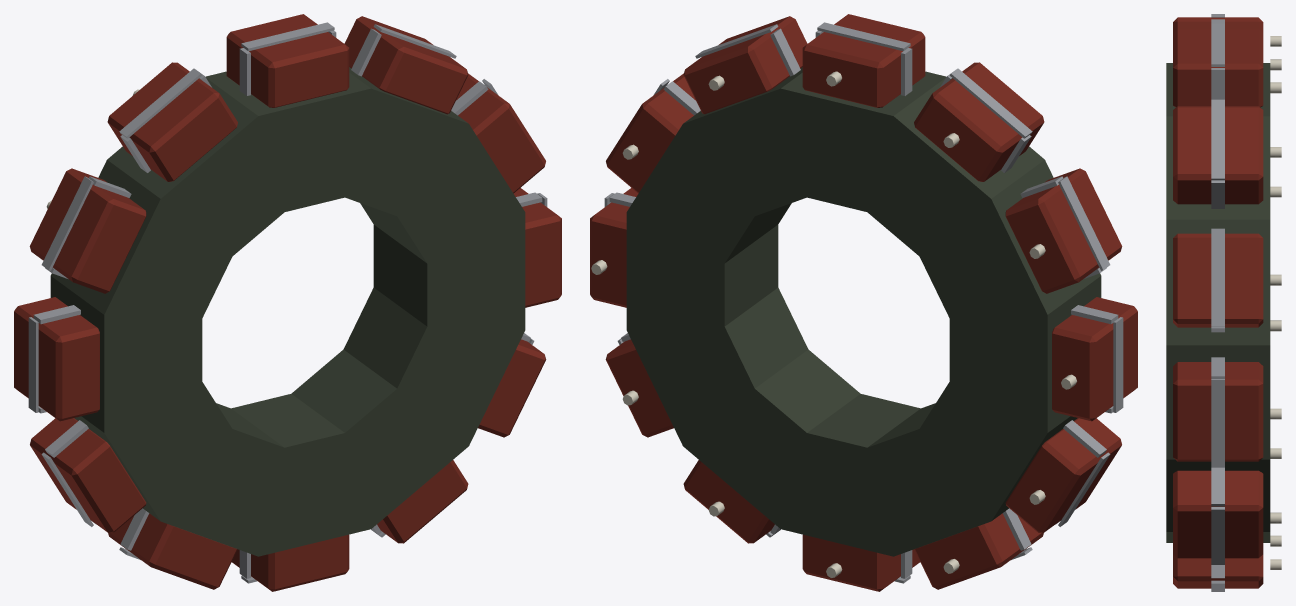
Rendered from tz11_coil_ring.obj.
3 renders of one model, left to right at view 1: azimuth 30°, elevation 25°; view 2: azimuth 150°, elevation 25°; view 3: azimuth 270°, elevation 25°, orthographic. The views are drawn at different scales.
Parts seen in each view (by area): view 1: tz11_coil_ring; view 2: tz11_coil_ring; view 3: tz11_coil_ring.
Boxes of the visible parts, x1,y1,x2,y2 form: tz11_coil_ring: [14, 14, 561, 591]; tz11_coil_ring: [590, 14, 1137, 591]; tz11_coil_ring: [1166, 14, 1281, 591].
Size of the model in its own units: 4.95 by 4.95 by 1.
